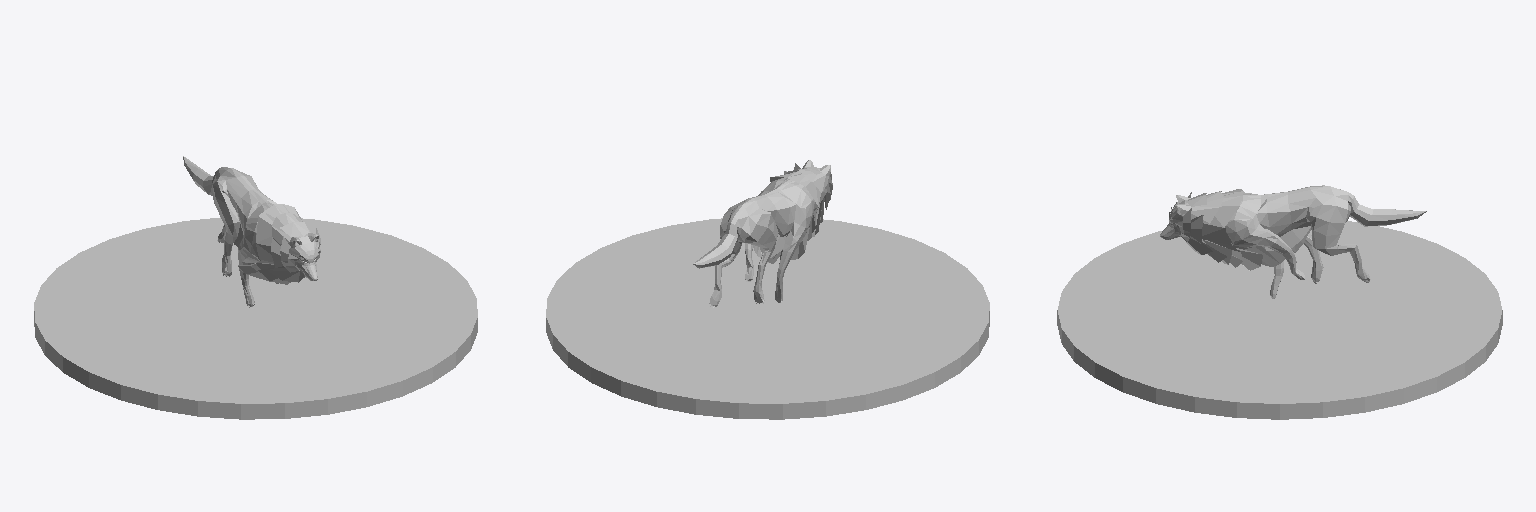
The model's file is Wolf_0005.obj.
3 renders of one model, left to right at view 1: azimuth 30°, elevation 25°; view 2: azimuth 150°, elevation 25°; view 3: azimuth 270°, elevation 25°, orthographic.
Visible parts, largest first — view 1: Circle, Wolf1_Material__wolf_col_tga_0, Wolf2_fur__fella3_jpg_001_0; view 2: Circle, Wolf1_Material__wolf_col_tga_0, Wolf2_fur__fella3_jpg_001_0; view 3: Circle, Wolf1_Material__wolf_col_tga_0, Wolf2_fur__fella3_jpg_001_0.
Part boxes in pixels (x1,y1,x2,y2): Circle: (34,217,477,419); Wolf1_Material__wolf_col_tga_0: (183,156,318,306); Wolf2_fur__fella3_jpg_001_0: (234,204,320,284); Circle: (546,218,989,419); Wolf1_Material__wolf_col_tga_0: (693,160,830,305); Wolf2_fur__fella3_jpg_001_0: (751,163,832,263); Circle: (1057,221,1502,419); Wolf1_Material__wolf_col_tga_0: (1160,185,1426,298); Wolf2_fur__fella3_jpg_001_0: (1169,189,1310,270).
Bounding box in the file's own units: 1.69 × 0.5846 × 1.69.